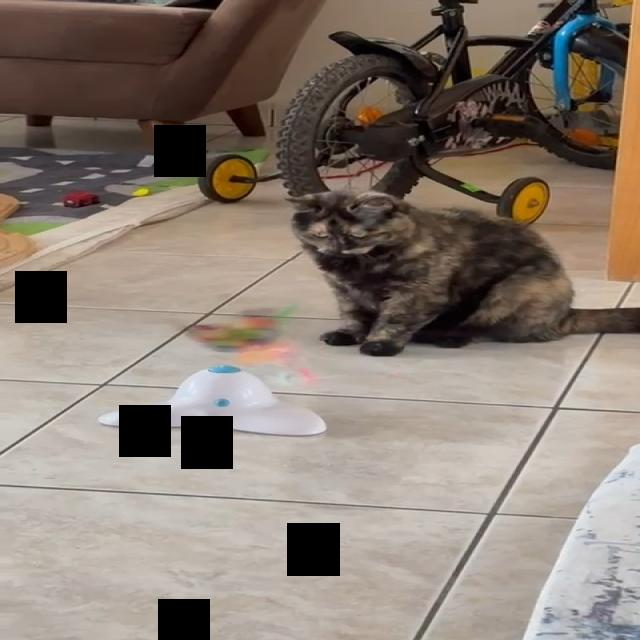authorized: (282, 187, 638, 356)
